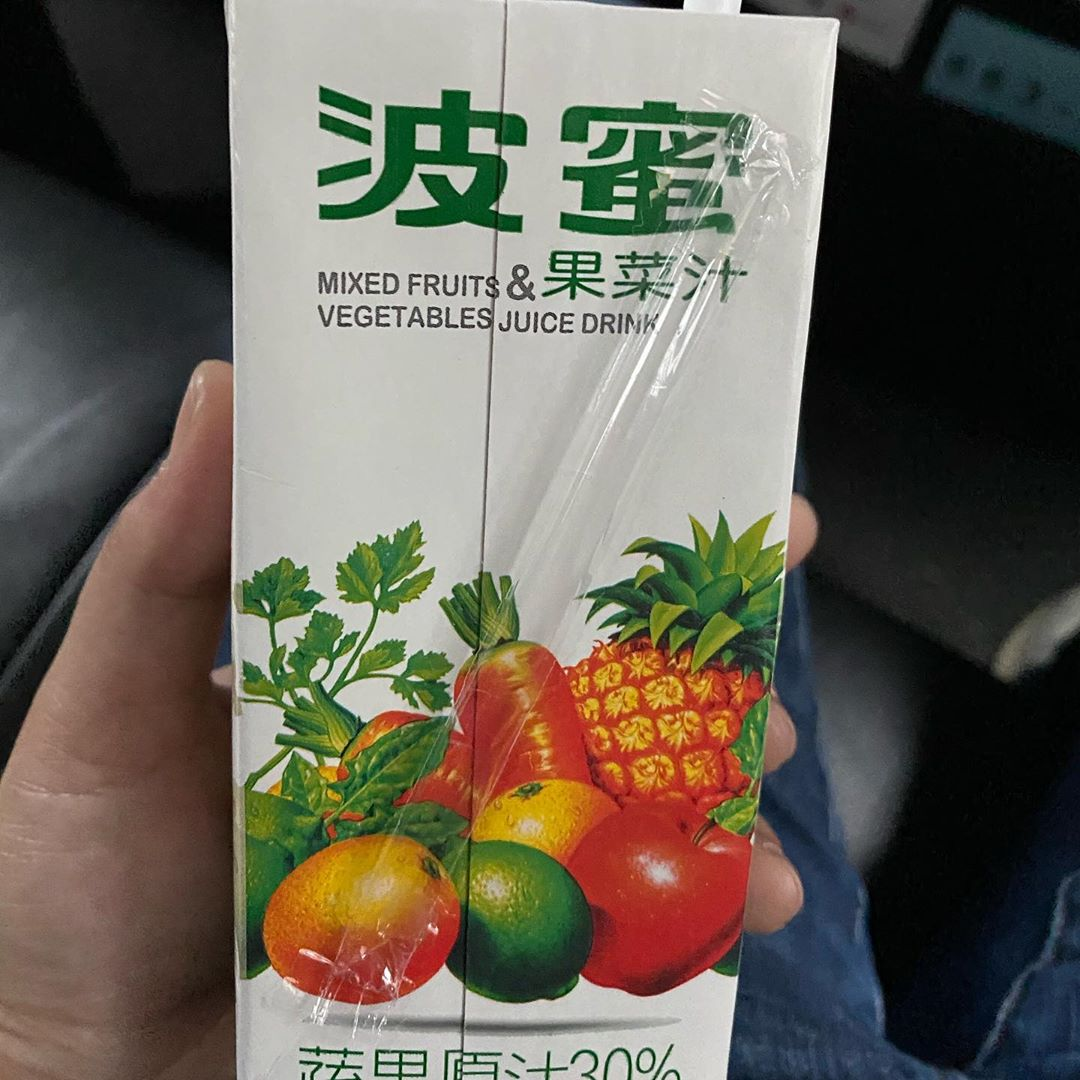vegetables juice: (206, 3, 846, 1080)
